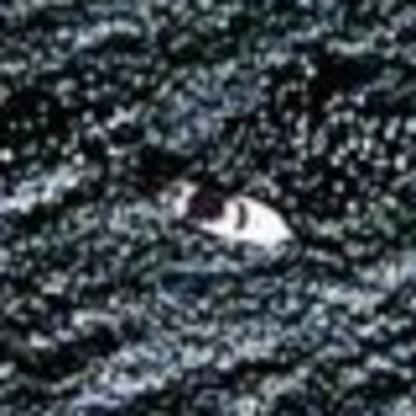ship: (134, 160, 300, 262)
